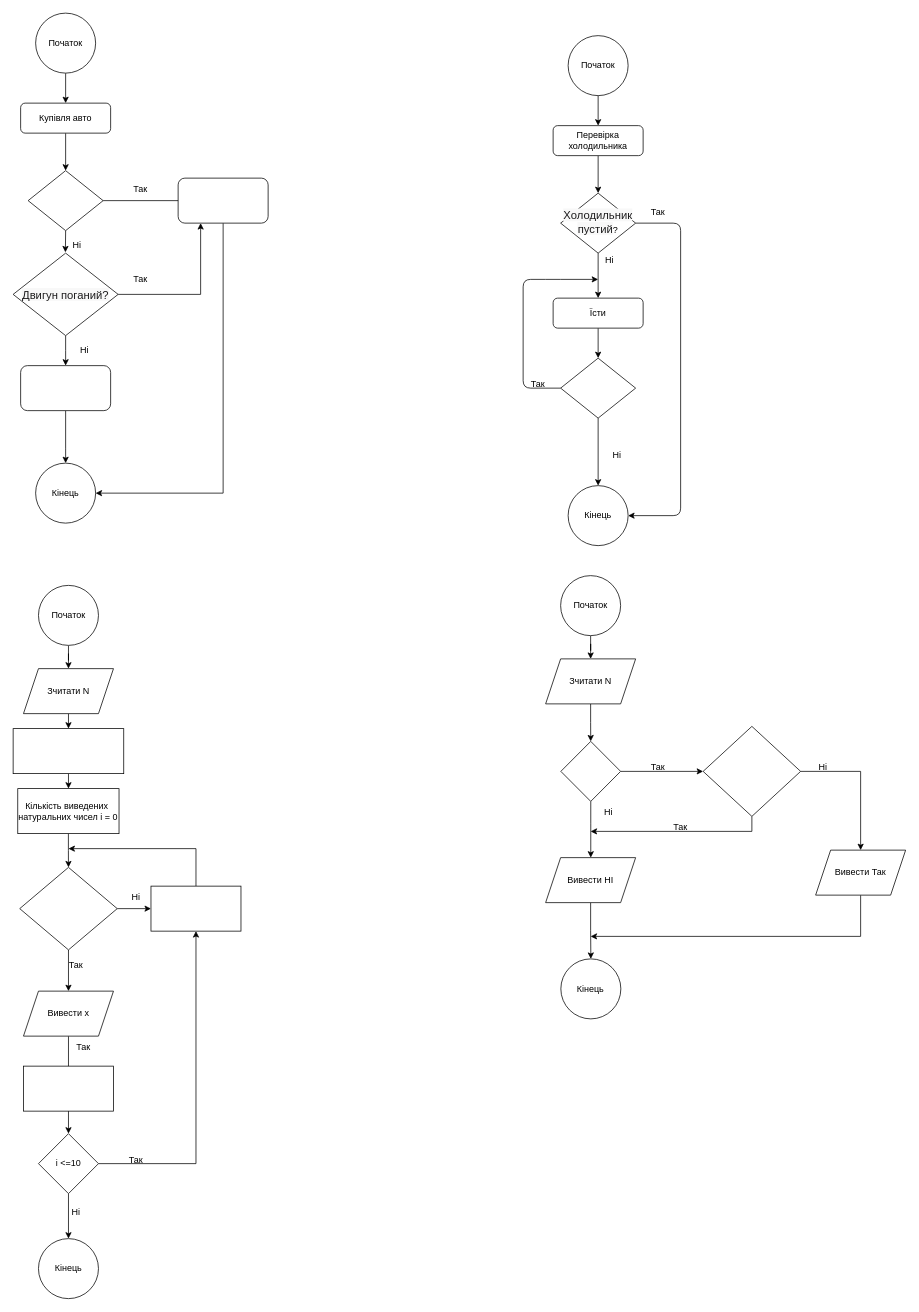
This 919x1312 diagram has some shape labels left out. Each missing label, with the box of its shape:
i =i +1: (23, 1065, 113, 1111)
N / 2 без залишку: (702, 726, 801, 816)
N > 2: (560, 741, 621, 801)
x =x +1: (150, 885, 241, 931)
x ділиться без залишку на N: (19, 867, 117, 950)
Виведене натуральне число, що ділиться на N x = 0: (12, 728, 124, 774)
Голодний?: (560, 357, 636, 418)
Кузов поганий ?: (27, 170, 103, 231)
Купуємо машину: (20, 365, 111, 411)
Не купуємо машину: (177, 177, 268, 223)
